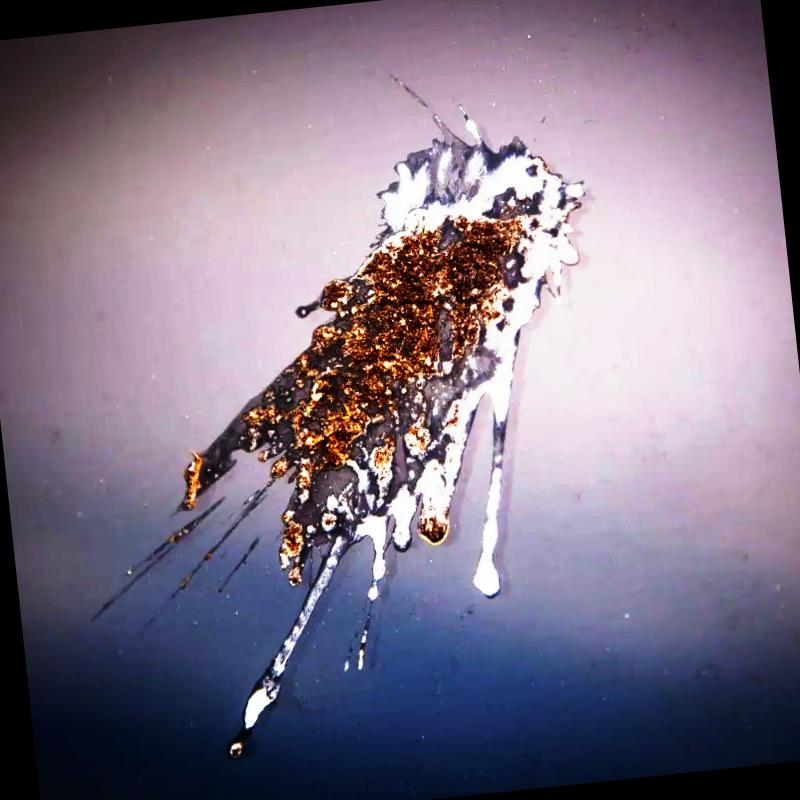Bird Poop: (184, 131, 583, 754)
